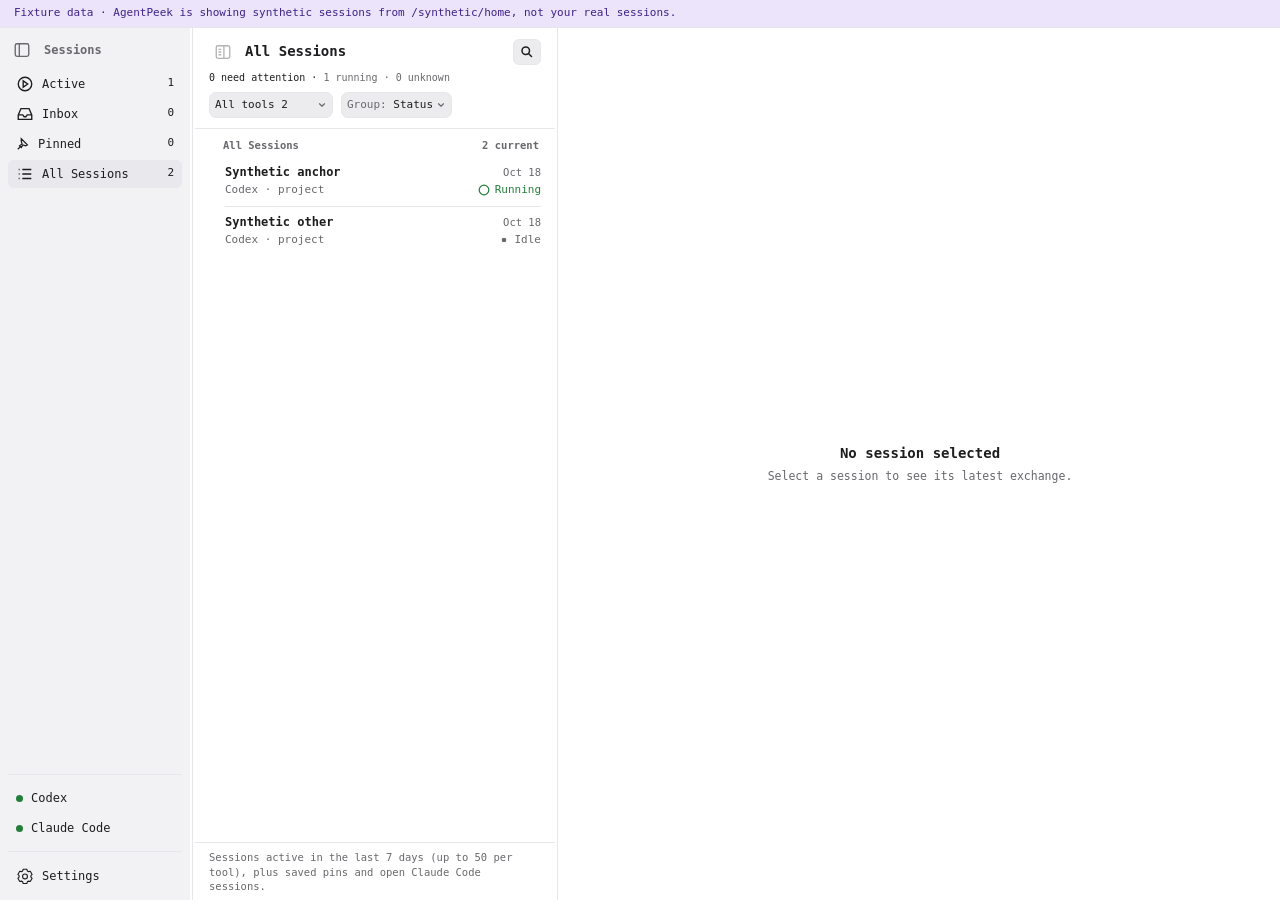
Test: sessions interface › anchors the selected row when an earlier group is insert-ed
This screenshot has width=1280, height=900.
Click the option "Synthetic anchor Oct 18 Codex · project Running".
click(283, 172)  # box [201, 156, 549, 206]
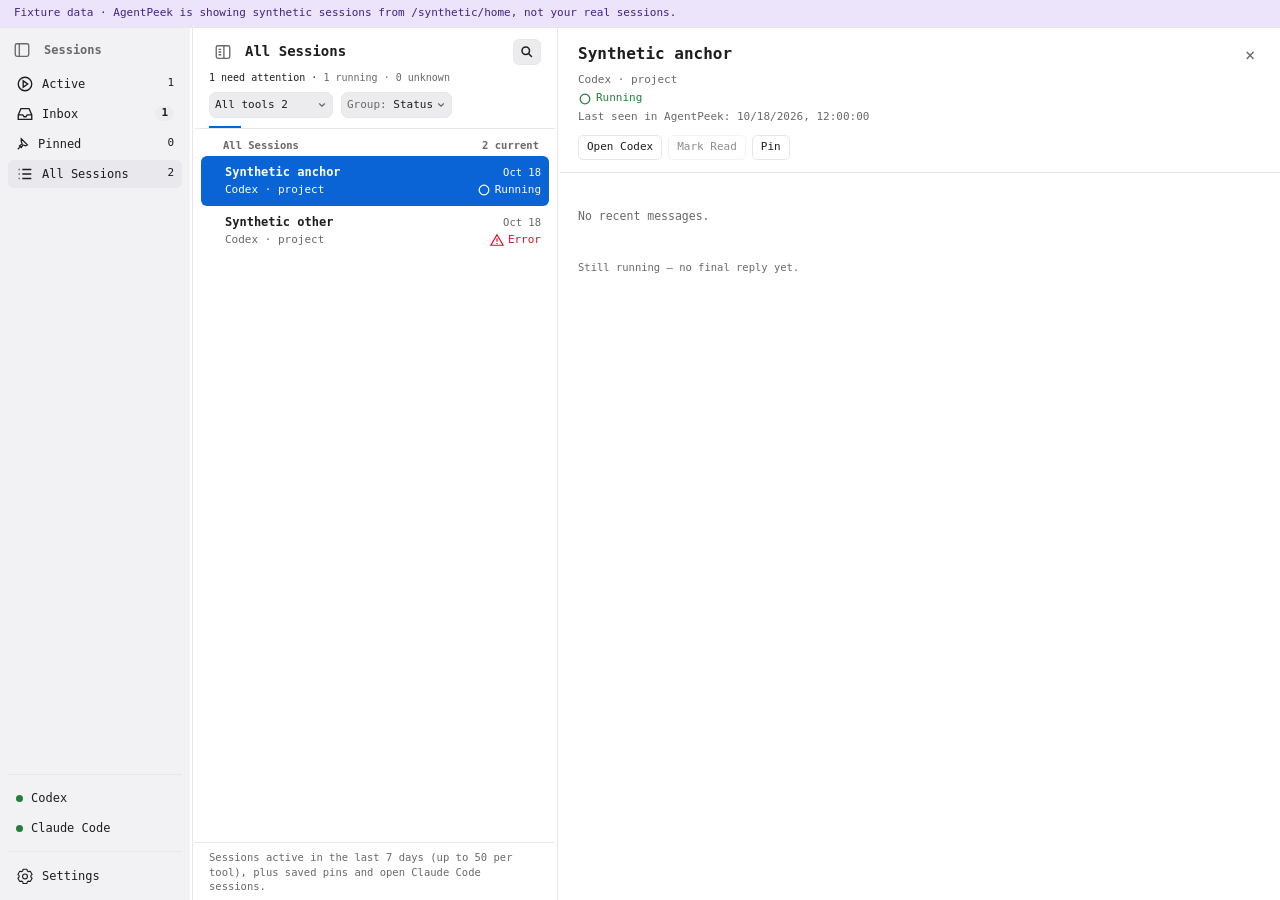
Now the button "Inbox 1" is shown, box [8, 100, 182, 128]
